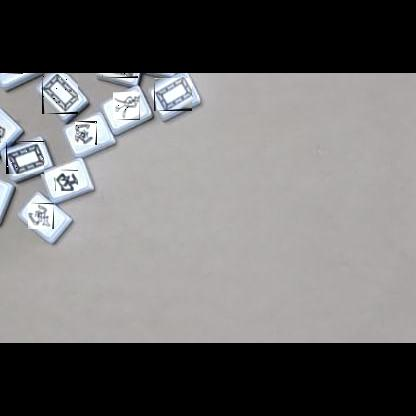1z: (113, 92, 140, 120)
2z: (29, 203, 54, 229), (76, 121, 102, 145)
3z: (55, 170, 78, 191), (0, 121, 6, 143)
4z: (2, 73, 23, 74)
5z: (42, 74, 78, 115), (154, 78, 192, 111), (6, 141, 44, 174), (102, 73, 138, 78)
